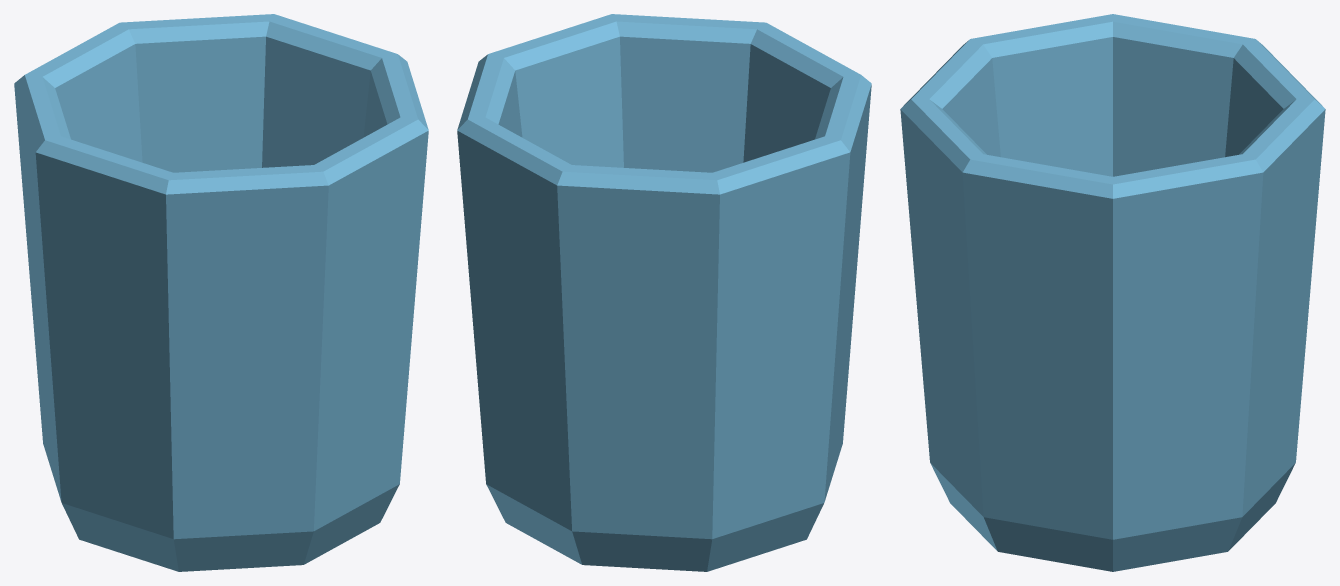
Rendered from Cup.fbx.
The picture shows the model from 3 angles, left to right: view 1: azimuth 30°, elevation 25°; view 2: azimuth 150°, elevation 25°; view 3: azimuth 270°, elevation 25°; orthographic projection.
Visible parts, largest first — view 1: WaterGlass; view 2: WaterGlass; view 3: WaterGlass.
Boxes of the visible parts, x1,y1,x2,y2 form: WaterGlass: (14,14,428,571); WaterGlass: (457,14,871,571); WaterGlass: (900,14,1325,571).
Size of the model in its own units: 0.0975 by 0.1064 by 0.0975.
1 material, 1 textured.
